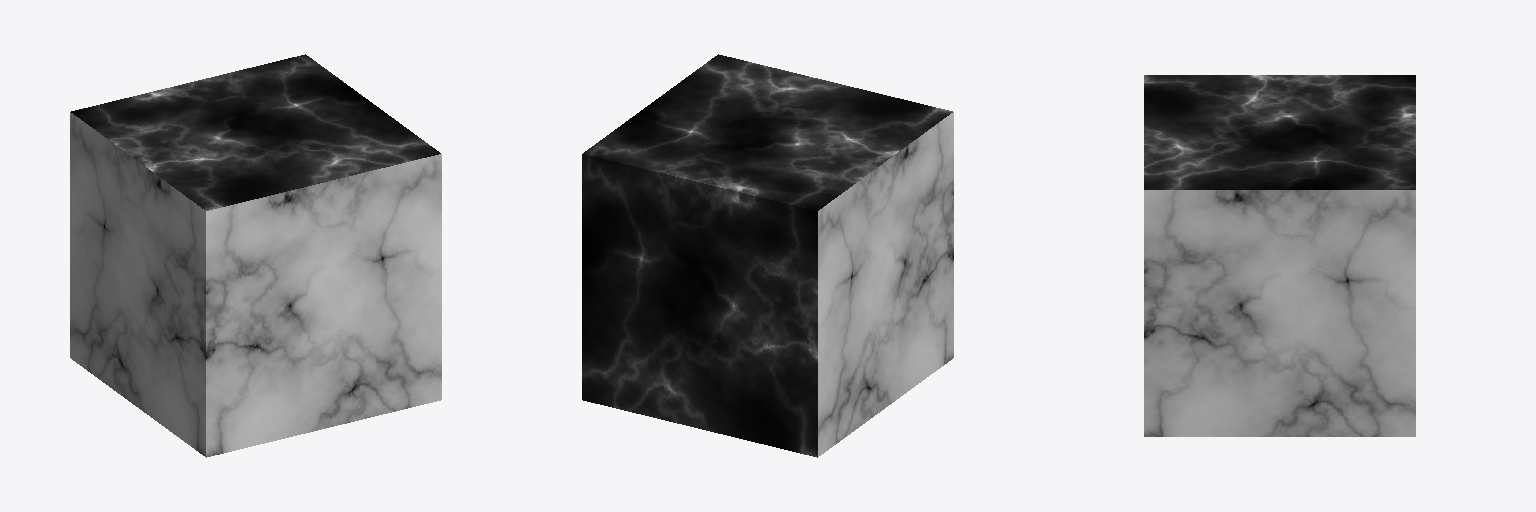
The picture shows the model from 3 angles: view 1: azimuth 30°, elevation 25°; view 2: azimuth 150°, elevation 25°; view 3: azimuth 270°, elevation 25°; orthographic projection.
Visible parts, largest first — view 1: pCube1; view 2: pCube1; view 3: pCube1.
Part boxes in pixels (bbox=[...]): pCube1: bbox=[70, 54, 441, 457]; pCube1: bbox=[582, 54, 953, 457]; pCube1: bbox=[1144, 75, 1415, 436].
Bounding box in the file's own units: 2 × 2 × 2.
Materials: 2 (2 with a texture image).